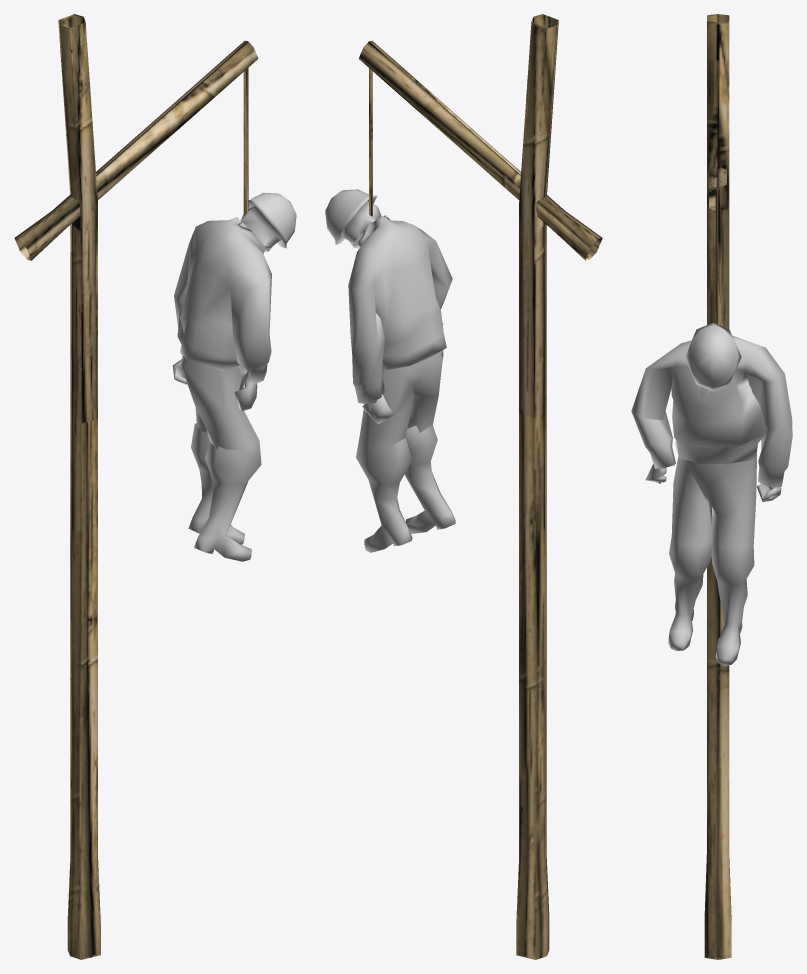
File: hangman.fbx
3 views of the same model, side by side, from view 1: azimuth 30°, elevation 25°; view 2: azimuth 150°, elevation 25°; view 3: azimuth 270°, elevation 25° (orthographic).
Visible parts, largest first — view 1: Hangman, corpse, Plane; view 2: Hangman, corpse; view 3: corpse, Hangman, Plane.
Boxes of the visible parts, box(x1,y1,x2,y2) form: Hangman: box(14, 14, 258, 959); corpse: box(172, 192, 296, 561); Plane: box(243, 68, 248, 215); Hangman: box(358, 14, 602, 959); corpse: box(325, 189, 455, 552); corpse: box(631, 322, 792, 665); Hangman: box(704, 14, 731, 959); Plane: box(715, 189, 720, 325).
Size of the model in its own units: 815 by 2667 by 419.
